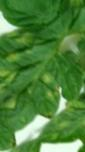Tomato mold leaf: (0, 1, 85, 132), (29, 76, 85, 152)
